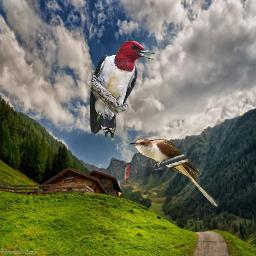Cuckoo: (128, 138, 220, 208)
Woodpecker: (87, 41, 159, 141)
